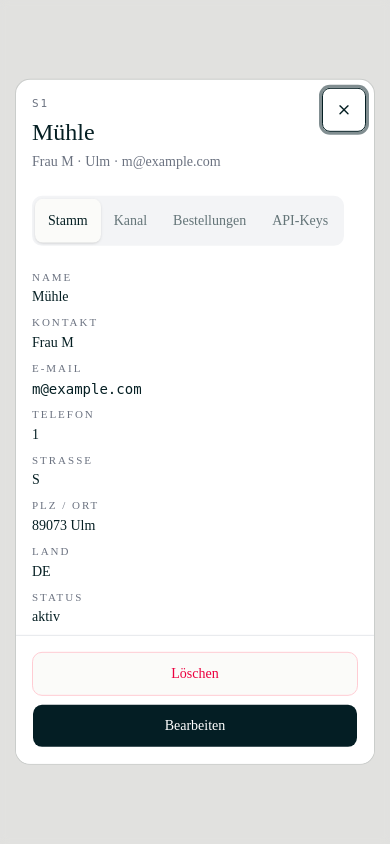
Test: SupplierDetailModal mobil › Bestellungen als Karten unter md, Tabelle ab md (F-M107)
Press the mouse on the tab "Bestellungen" at [210, 220], box [160,198,259,242]
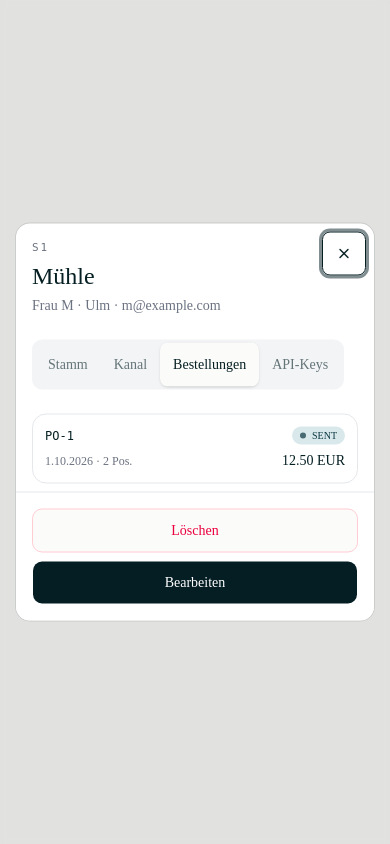
Result: the text "PO-1" is shown at [45,427,74,443]
